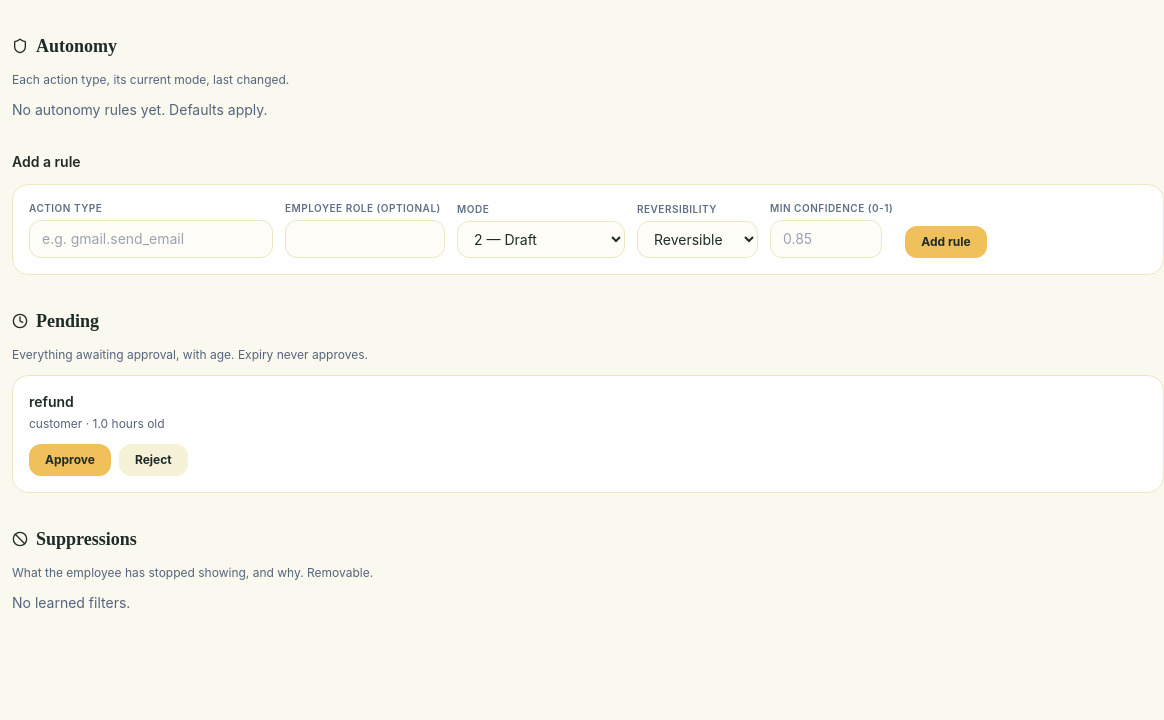
Scenario: AutonomySettings › shows API error when approve fails and keeps the pending row
The image size is (1164, 720).
Expected: the text "refund" is shown, [29,393,74,410]
Click the button "Approve". click: [70, 460]
box: [29,444,111,476]
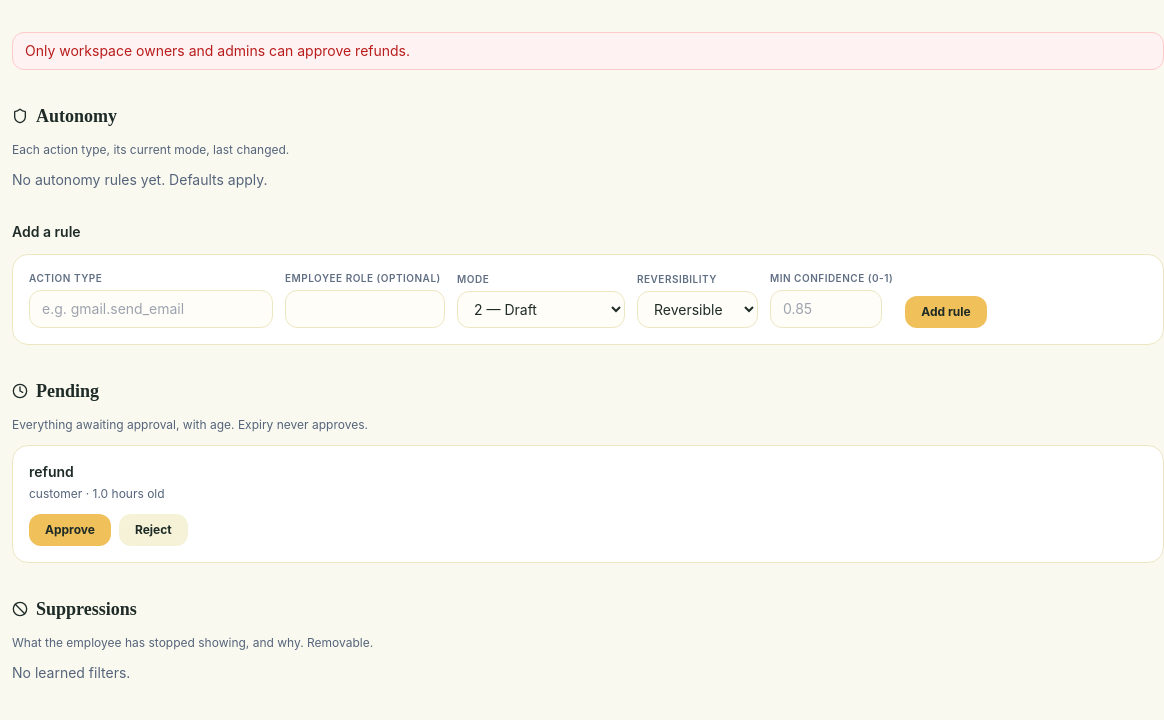
Expected: the text "refund" is shown, [29,463,74,480]
Expected: the text "Only workspace owners and admins can approve refunds." is shown, [12,32,1163,70]
